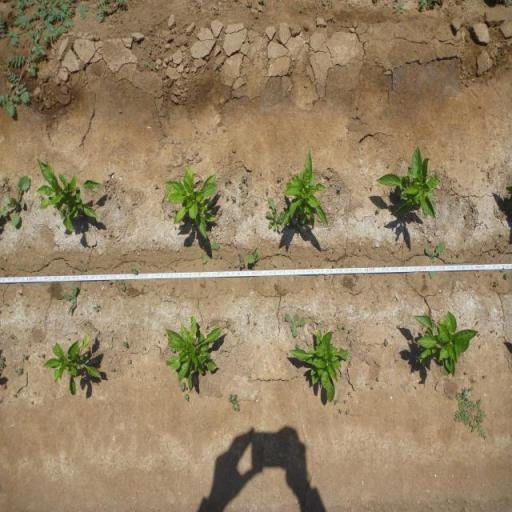plant: (34, 158, 105, 238), (376, 144, 443, 226), (289, 328, 350, 404), (164, 314, 227, 387), (410, 308, 478, 374), (162, 165, 221, 239), (44, 331, 104, 397), (283, 149, 331, 229)
weed: (0, 0, 135, 124), (455, 392, 489, 442), (0, 174, 31, 227), (424, 240, 447, 280), (263, 198, 283, 232), (283, 312, 307, 338), (198, 239, 221, 265), (64, 284, 78, 314), (390, 0, 410, 18), (228, 394, 242, 412), (412, 0, 437, 10), (246, 247, 259, 266), (142, 59, 158, 73), (236, 249, 246, 269), (2, 176, 10, 190), (91, 303, 101, 313), (179, 382, 187, 392), (462, 387, 472, 395), (14, 367, 22, 377), (496, 52, 502, 65), (224, 176, 233, 184), (492, 279, 499, 289), (0, 355, 5, 369), (383, 337, 389, 348), (130, 267, 138, 275), (375, 206, 382, 215), (238, 182, 244, 192), (230, 195, 236, 203), (120, 284, 126, 292), (184, 393, 189, 402), (122, 340, 128, 347), (336, 185, 342, 192), (504, 272, 509, 280), (22, 354, 28, 360), (295, 342, 300, 349), (298, 6, 303, 13), (170, 348, 175, 354), (166, 213, 172, 218), (421, 273, 426, 279), (334, 399, 338, 406), (225, 195, 229, 201), (277, 176, 281, 182), (376, 377, 380, 383), (341, 324, 345, 330), (106, 280, 112, 284), (241, 176, 246, 180), (348, 329, 352, 334), (128, 359, 132, 364), (338, 408, 342, 412), (346, 410, 350, 414), (500, 268, 504, 272), (254, 200, 257, 205), (266, 188, 268, 195), (350, 340, 352, 346), (348, 392, 350, 394)
